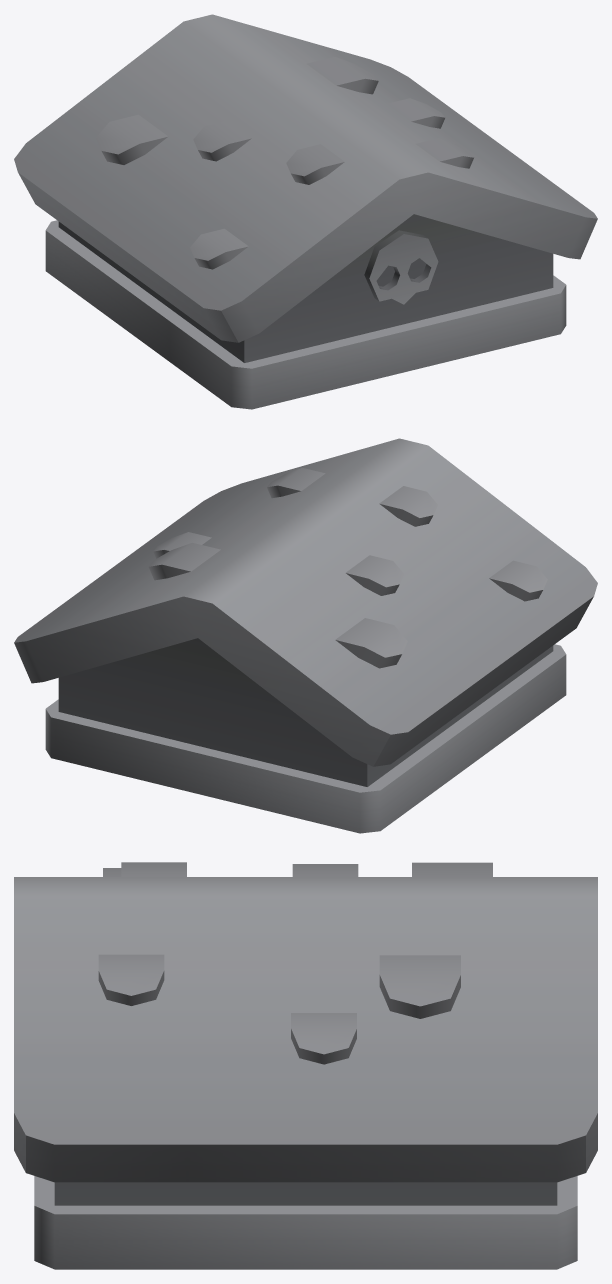
File: crypt-small-roof.glb
3 renders of one model, top to bottom at view 1: azimuth 30°, elevation 25°; view 2: azimuth 150°, elevation 25°; view 3: azimuth 270°, elevation 25°, orthographic. The views are drawn at different scales.
Parts seen in each view (by area): view 1: crypt-small-roof; view 2: crypt-small-roof; view 3: crypt-small-roof.
Part boxes in pixels (bbox=[...]): crypt-small-roof: bbox=[14, 14, 597, 409]; crypt-small-roof: bbox=[14, 438, 597, 833]; crypt-small-roof: bbox=[14, 862, 597, 1269].
Size of the model in its own units: 3.6 by 1.78 by 3.45.
1 material, 1 textured.
